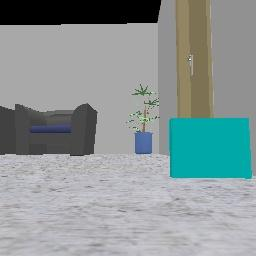fotoliu: (16, 103, 97, 154), (0, 106, 14, 154)
planta: (129, 84, 159, 153)
turcoaz: (170, 118, 251, 177)
